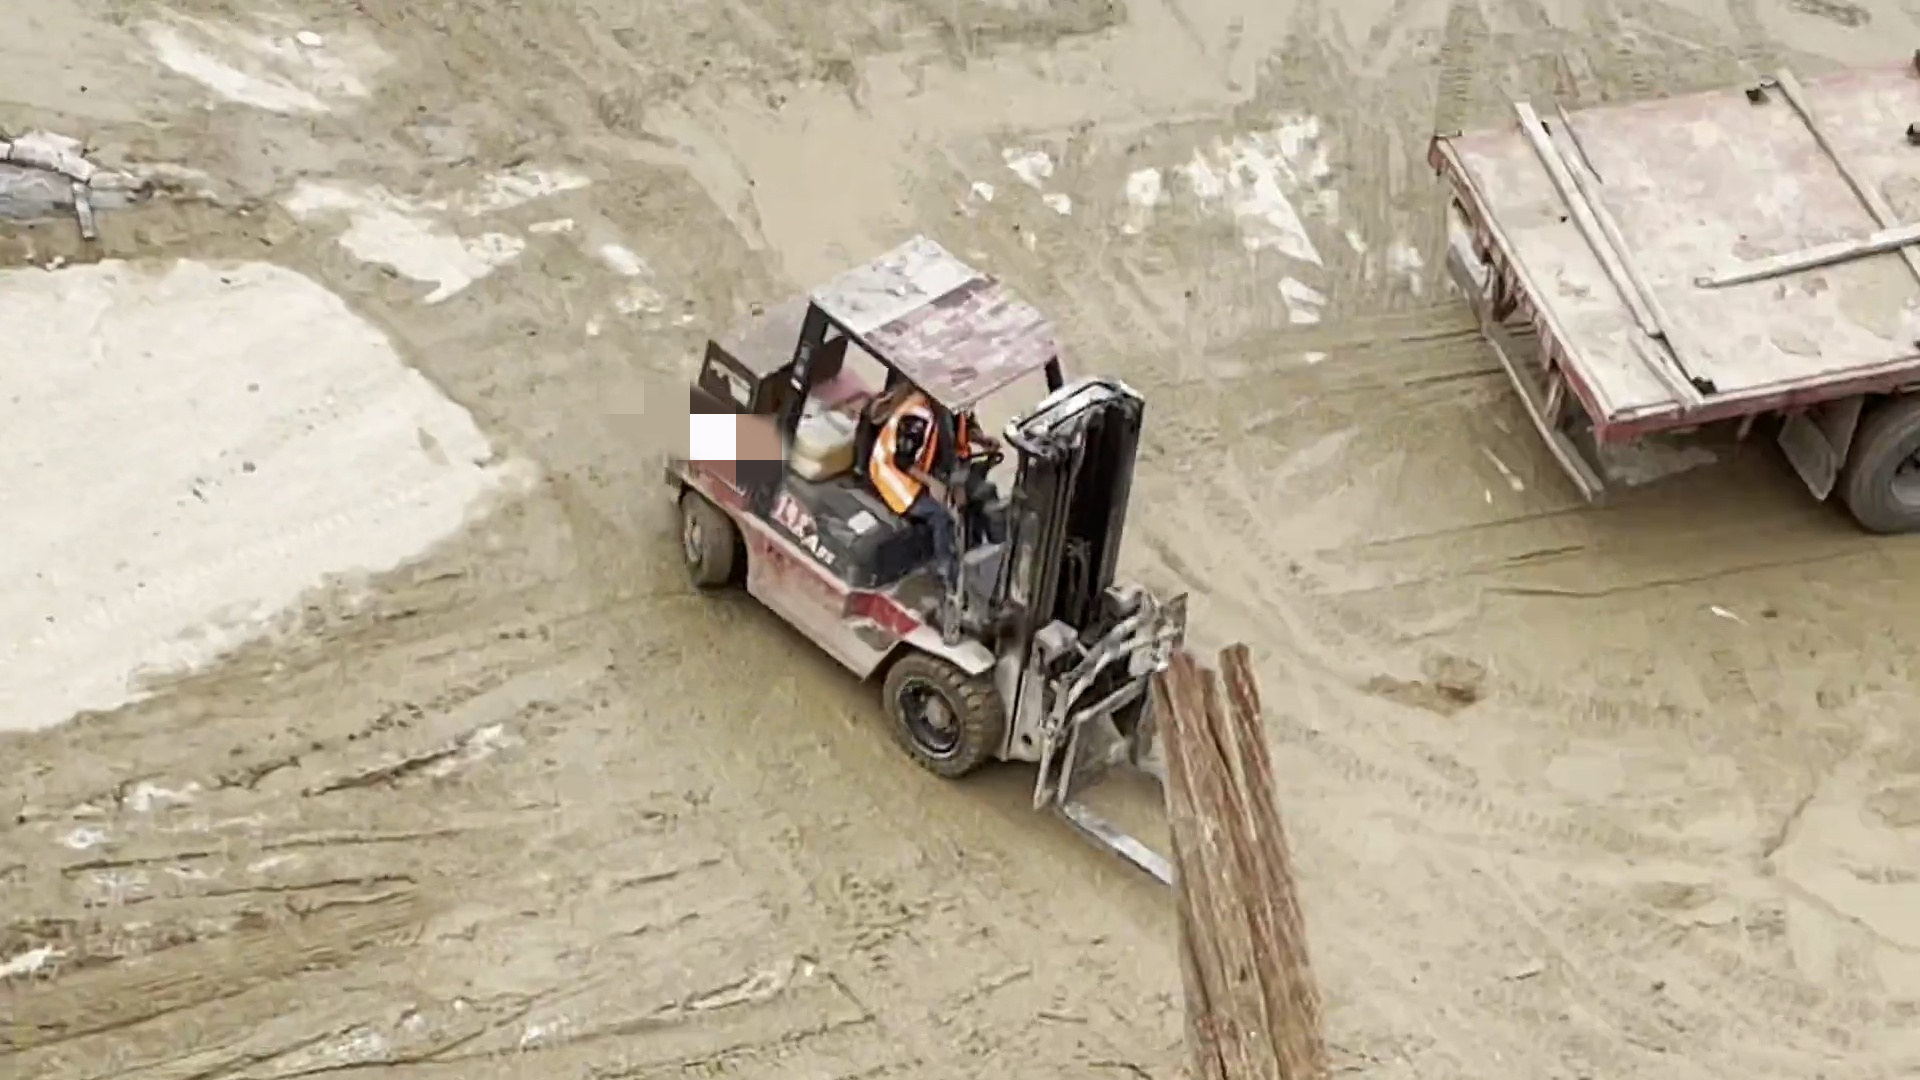person: (870, 386, 993, 601)
vest: (852, 380, 971, 527)
